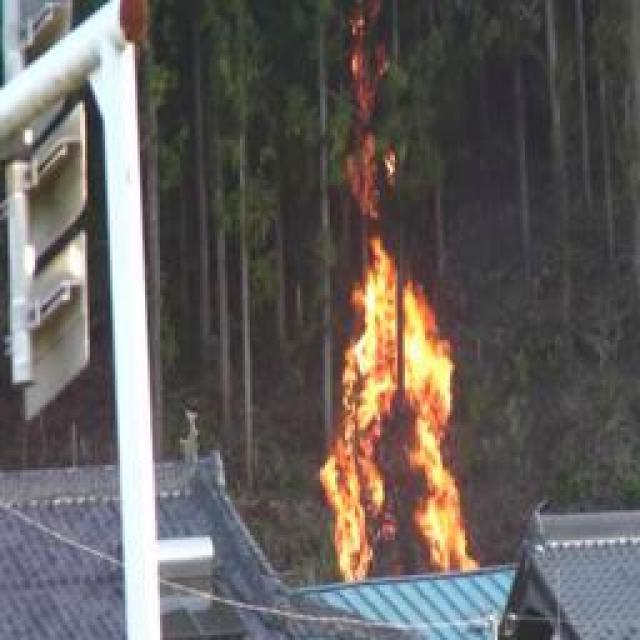Fire: (315, 238, 472, 582)
